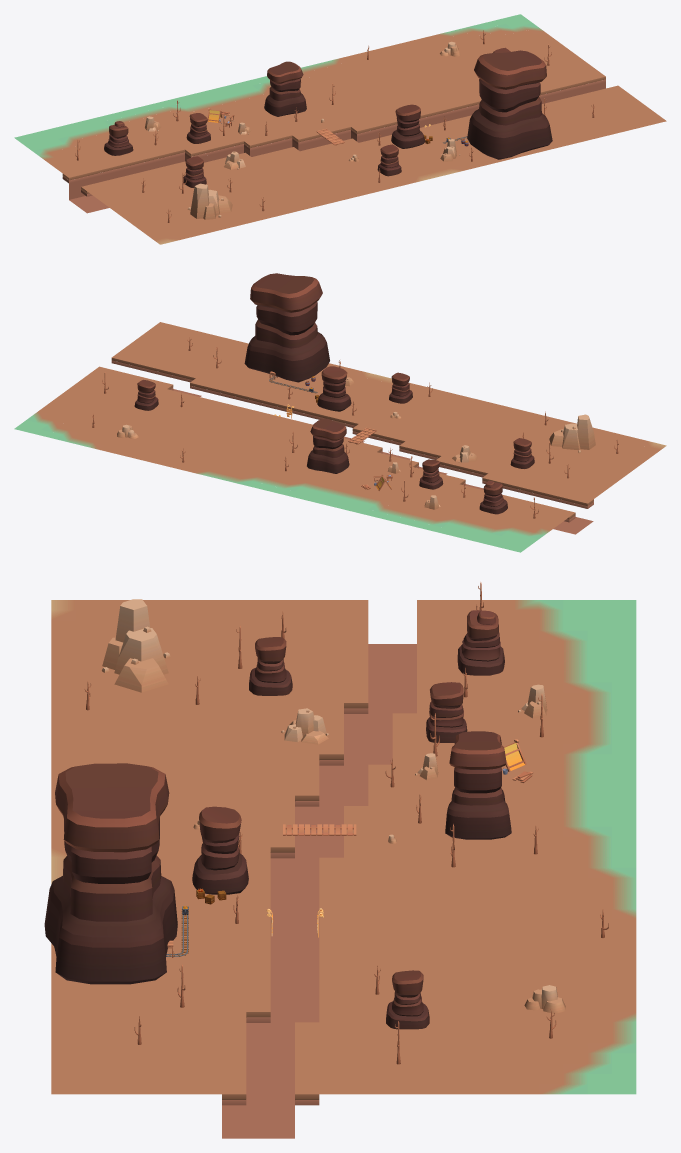
Rendered from Badlands-transformed.glb.
The picture shows the model from 3 angles, top to bottom: view 1: azimuth 30°, elevation 25°; view 2: azimuth 150°, elevation 25°; view 3: azimuth 270°, elevation 25°; orthographic projection. The views are drawn at different scales.
Visible parts, largest first — view 1: square_rockToSand2, RocksPackCube104, RocksPackCube100, RocksPackCube099, rock-sand-c, RocksPackCube095, RocksPackCube101, RocksPackCube103, RocksPackCube102; view 2: square_rockToSand2, RocksPackCube104, RocksPackCube100, RocksPackCube099, rock-sand-c, RocksPackCube095, RocksPackCube105, RocksPackCube102, RocksPackCube101, RocksPackCube103; view 3: square_rockToSand2, RocksPackCube104, RocksPackCube100, rock-sand-c, RocksPackCube099, RocksPackCube095, RocksPackCube102, RocksPackCube103, RocksPackCube105, rock-sand-b, resource-stone-large4.
Boxes of the visible parts, <box> form: square_rockToSand2: <box>14,14,666,244</box>; RocksPackCube104: <box>467,50,552,159</box>; RocksPackCube100: <box>264,61,306,116</box>; RocksPackCube099: <box>391,104,425,148</box>; rock-sand-c: <box>187,183,232,219</box>; RocksPackCube095: <box>104,121,133,155</box>; RocksPackCube101: <box>377,144,401,176</box>; RocksPackCube103: <box>186,113,210,143</box>; RocksPackCube102: <box>183,156,206,187</box>; square_rockToSand2: <box>14,322,666,552</box>; RocksPackCube104: <box>244,273,329,382</box>; RocksPackCube100: <box>307,418,349,473</box>; RocksPackCube099: <box>317,366,351,411</box>; rock-sand-c: <box>549,414,595,453</box>; RocksPackCube095: <box>479,480,507,514</box>; RocksPackCube105: <box>134,379,158,410</box>; RocksPackCube102: <box>510,438,534,468</box>; RocksPackCube101: <box>389,372,412,403</box>; RocksPackCube103: <box>419,459,443,489</box>; square_rockToSand2: <box>51,600,636,1138</box>; RocksPackCube104: <box>44,763,177,984</box>; RocksPackCube100: <box>445,731,511,839</box>; rock-sand-c: <box>102,599,170,692</box>; RocksPackCube099: <box>192,806,248,894</box>; RocksPackCube095: <box>457,610,504,675</box>; RocksPackCube102: <box>249,637,292,695</box>; RocksPackCube103: <box>426,682,467,742</box>; RocksPackCube105: <box>386,970,429,1029</box>; rock-sand-b: <box>281,708,329,744</box>; resource-stone-large4: <box>524,985,565,1013</box>.
Bounding box in the file's own units: 96 × 19.58 × 48.55.
11 materials, 8 textured.
